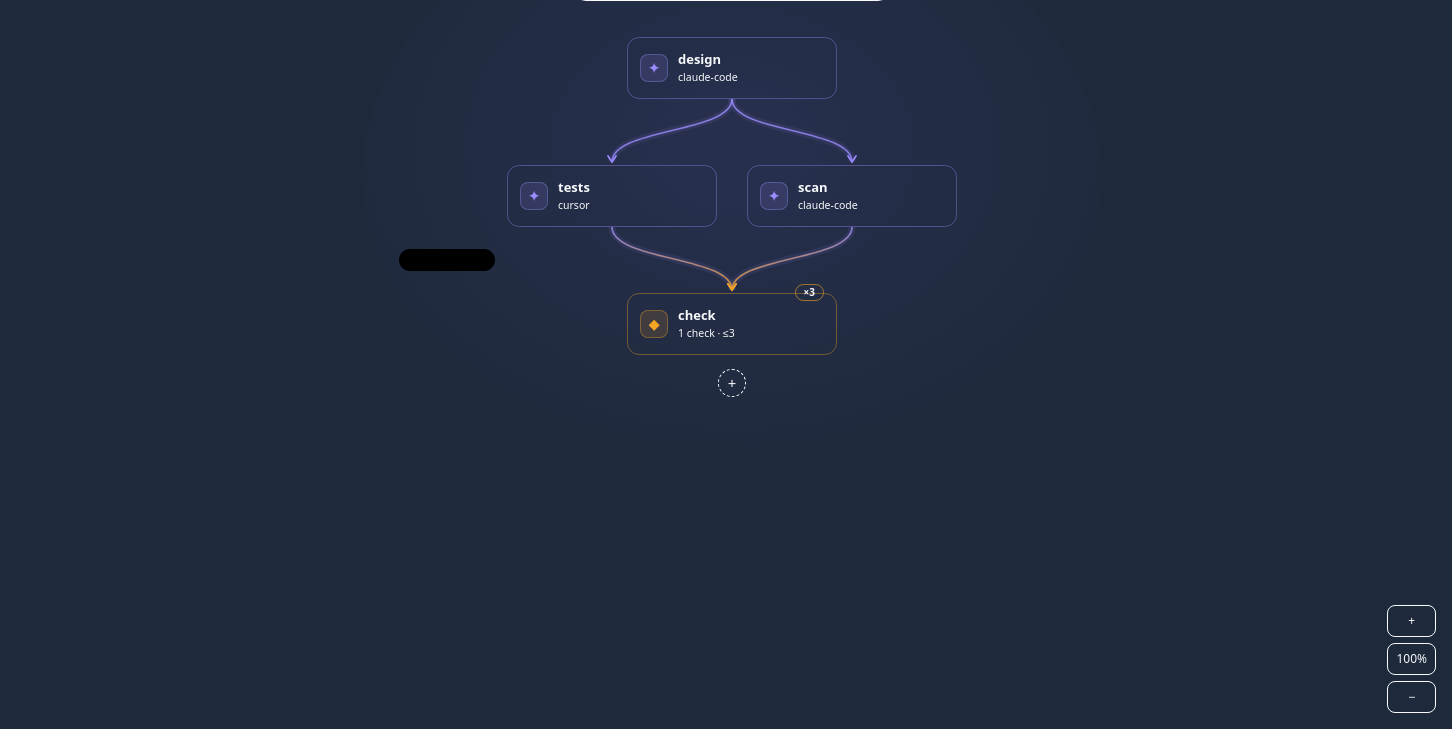
Test: Gb_canvas › “+” under a leaf opens the kind menu and adds after it
Click the button named "Add a phase after check". click: (732, 383)
box: [718,369,746,397]
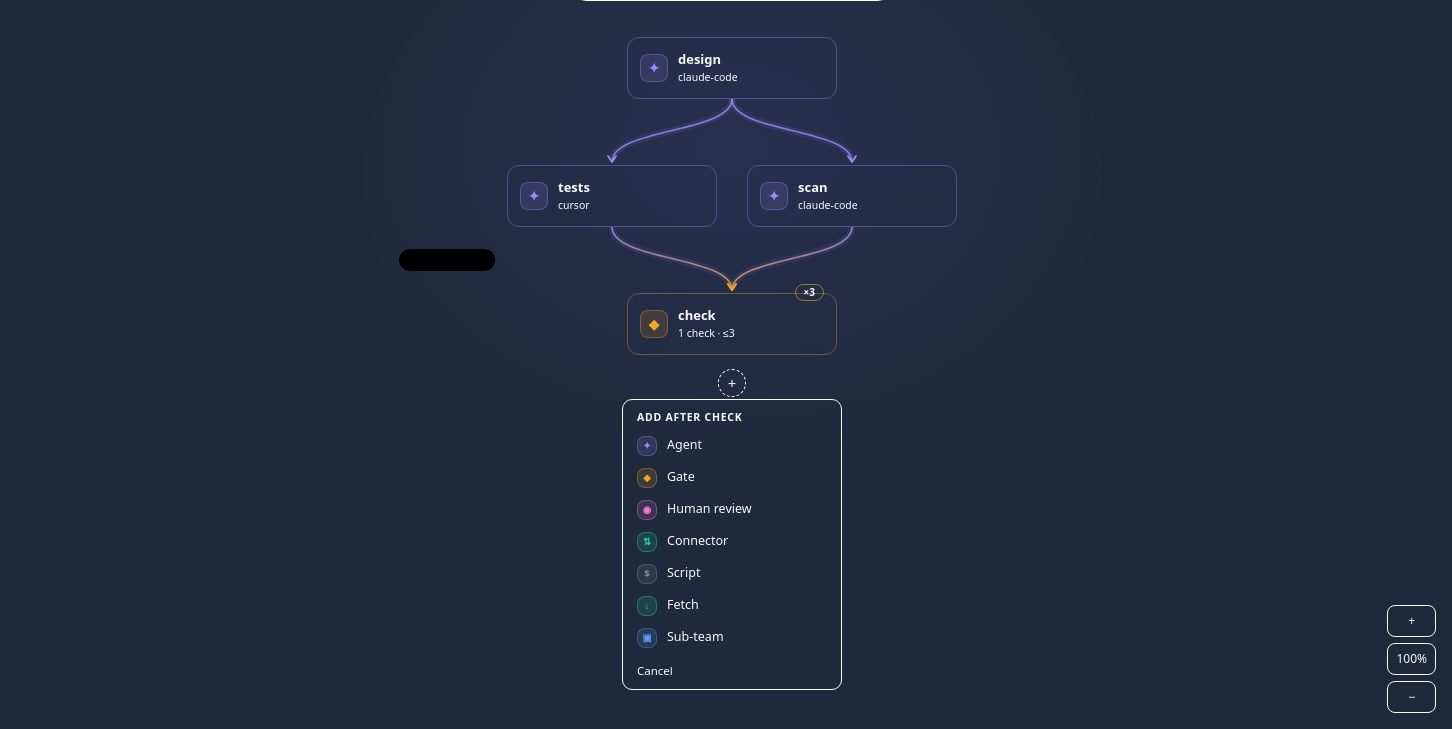
Click the menu item "◉ Human review". click: (732, 510)
box: [629,494,835,526]
(page scrolled)
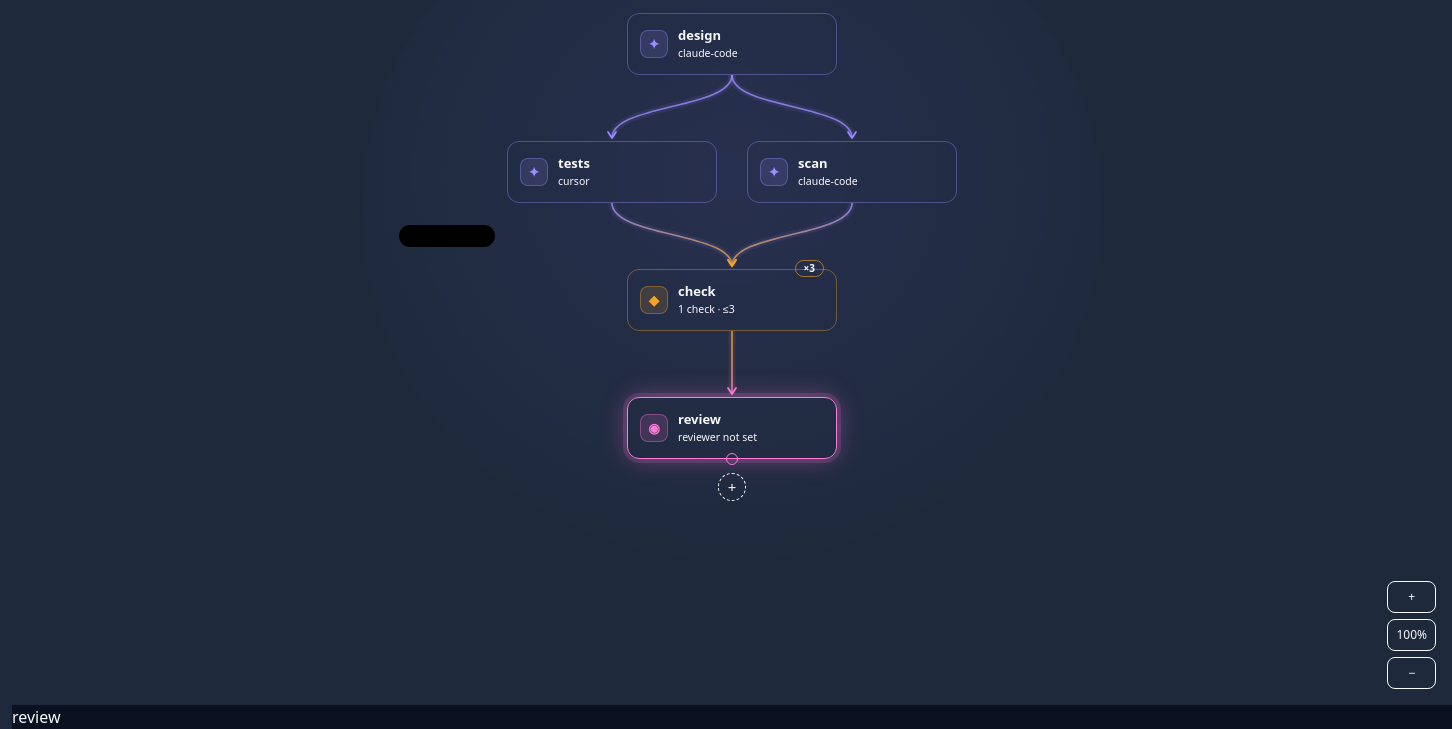
Expected: the text with test id "sel" reads "review", [12,706,60,728]
